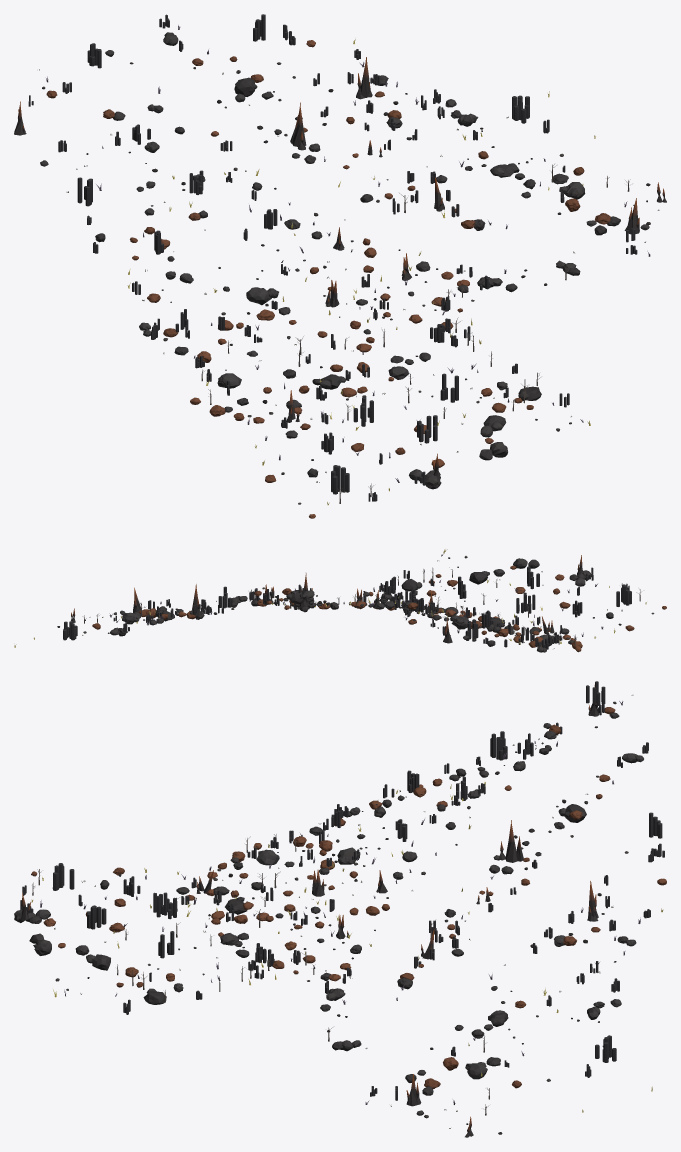
File: ash_land_scatter_c21_29.glb
3 views of the same model, one above another, from view 1: azimuth 30°, elevation 25°; view 2: azimuth 150°, elevation 25°; view 3: azimuth 270°, elevation 25° (orthographic). The views are drawn at different scales.
Parts seen in each view (by area): view 1: ash_land_scatter_c21_29; view 2: ash_land_scatter_c21_29; view 3: ash_land_scatter_c21_29.
Part boxes in pixels (x1=…): ash_land_scatter_c21_29: x1=14, y1=14, x2=666, y2=518; ash_land_scatter_c21_29: x1=14, y1=549, x2=666, y2=652; ash_land_scatter_c21_29: x1=14, y1=681, x2=666, y2=1137.
Bounding box in the file's own units: 257 × 100 × 260.
